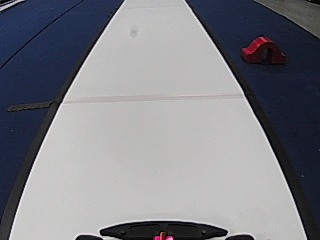bridge: (239, 33, 286, 65)
